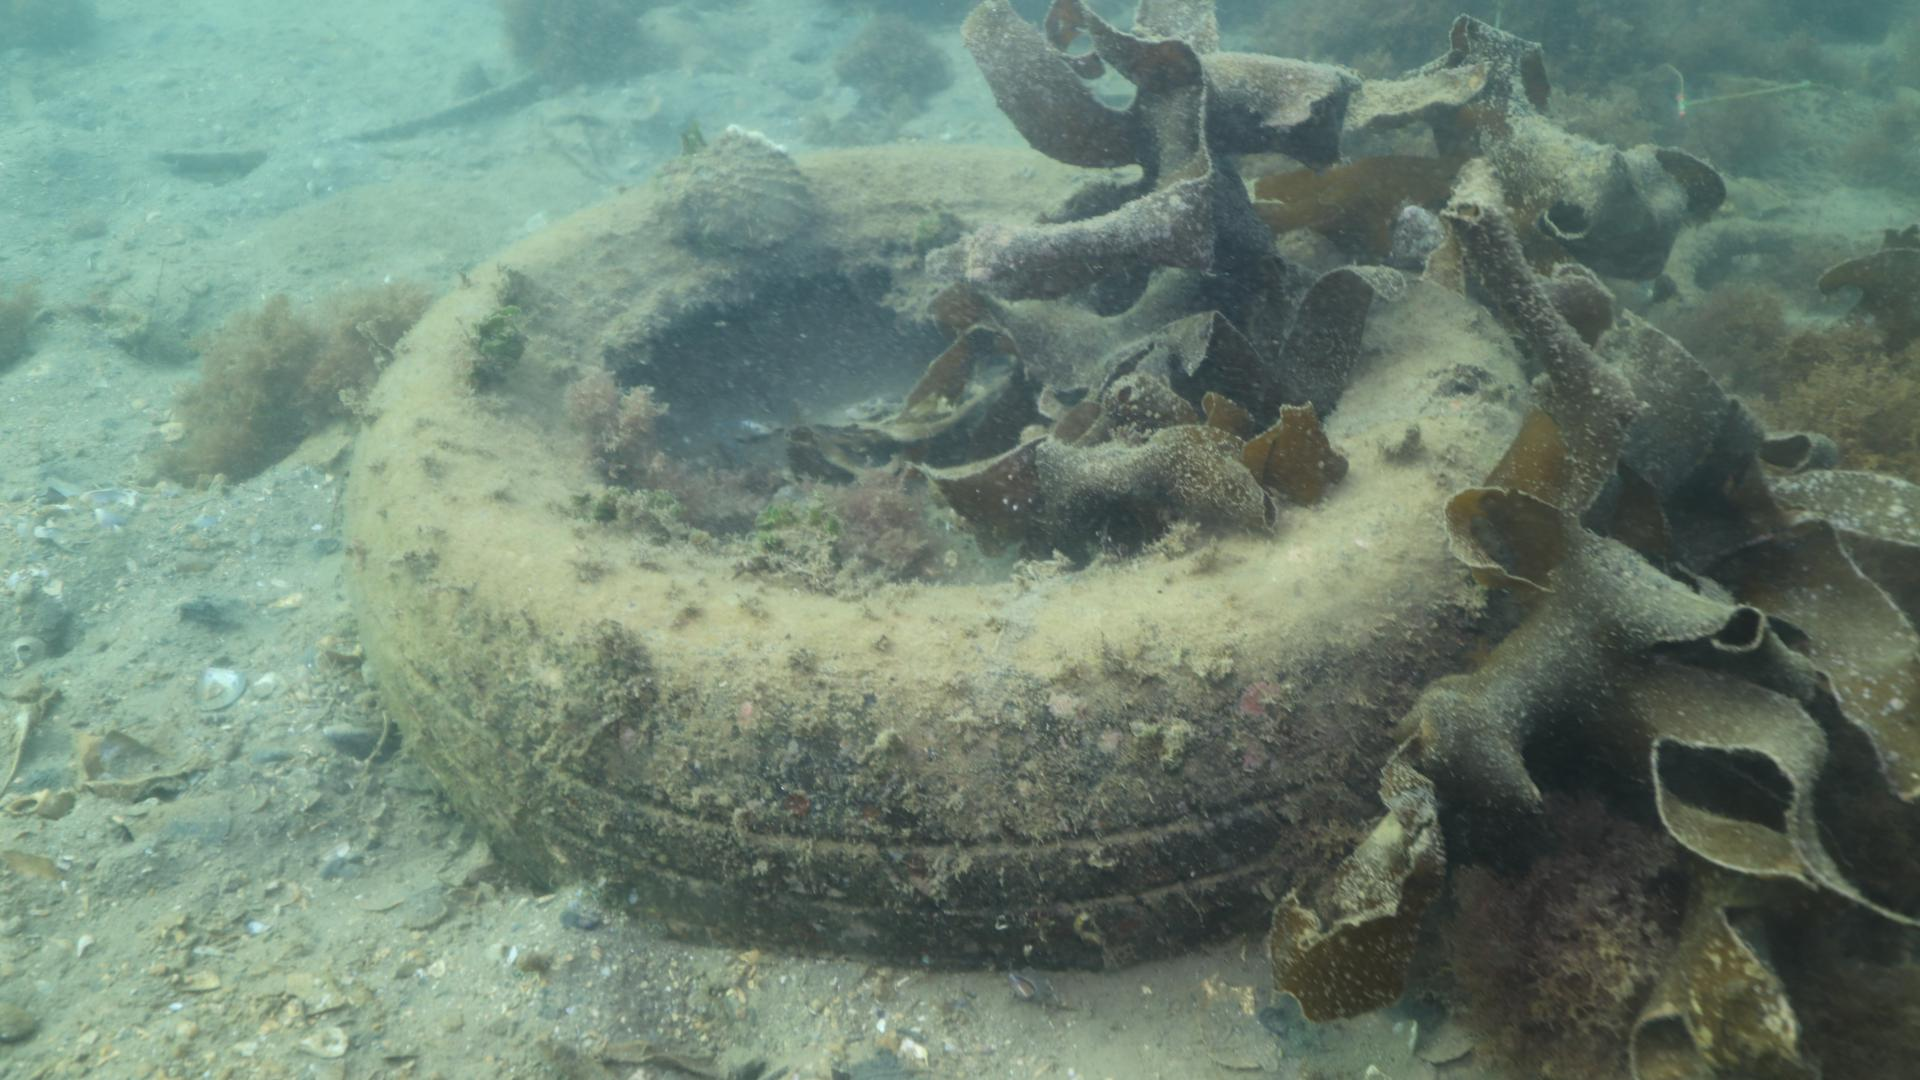tire: (344, 135, 1522, 967)
